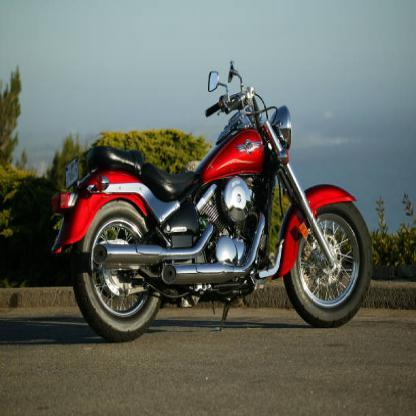Motorcycle: (52, 66, 373, 345)
